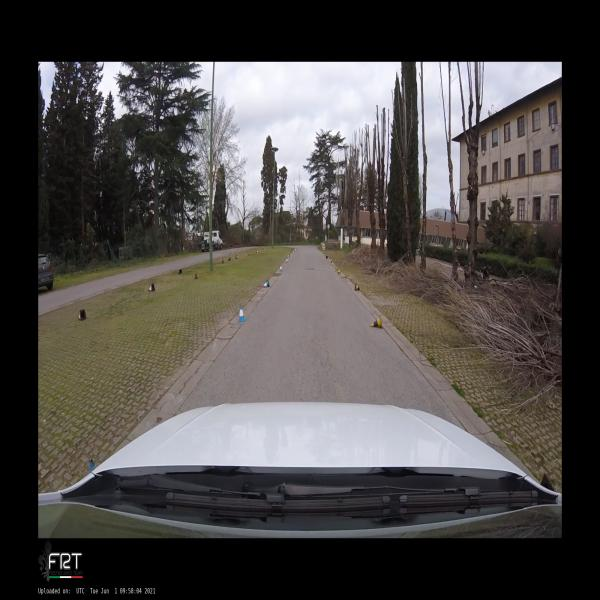blue_cone: (238, 306, 245, 322), (263, 280, 269, 287), (279, 266, 283, 272), (286, 258, 288, 263), (287, 255, 290, 258)
orange_cone: (78, 310, 87, 320)
unknown_cone: (148, 283, 155, 291), (194, 270, 198, 279), (178, 269, 182, 275), (228, 257, 231, 261), (222, 260, 224, 264), (236, 255, 238, 259), (326, 256, 328, 258)
yellow_cone: (371, 316, 382, 329), (354, 283, 362, 291), (338, 270, 341, 275), (330, 260, 332, 264)
